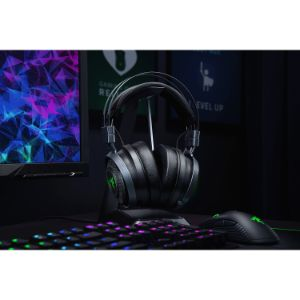headset: (95, 68, 206, 205)
mouse: (198, 206, 284, 246)
